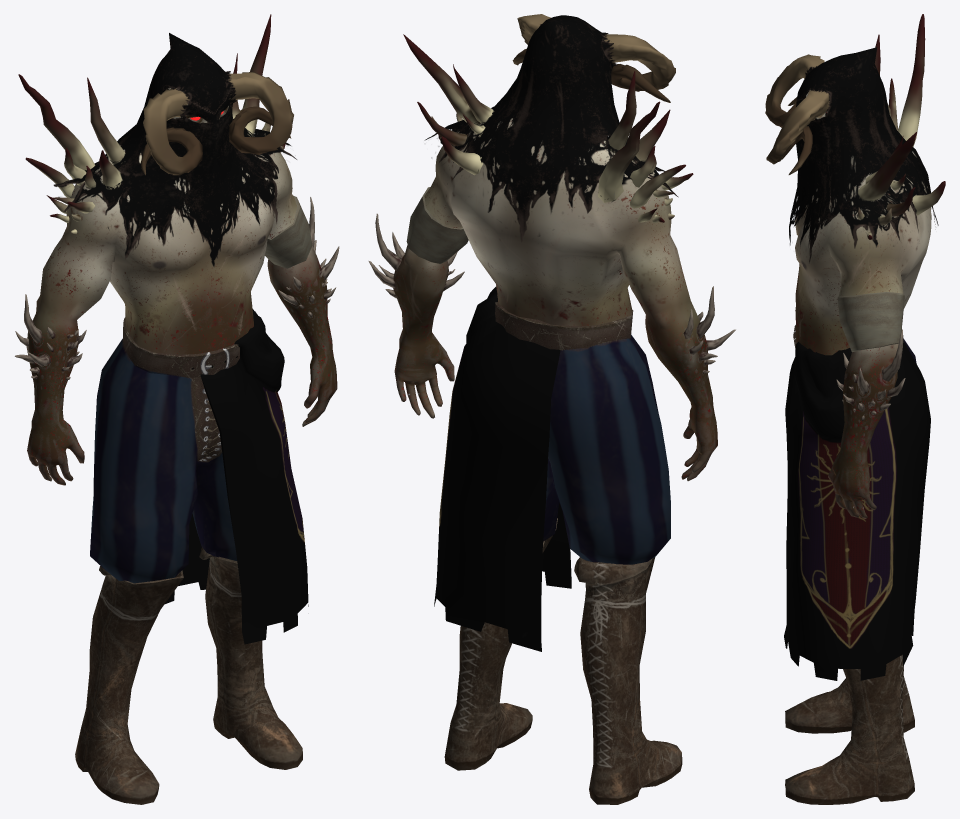
Rendered from banasura.glb.
The picture shows the model from 3 angles, left to right: view 1: azimuth 30°, elevation 25°; view 2: azimuth 150°, elevation 25°; view 3: azimuth 270°, elevation 25°; orthographic projection. The views are drawn at different scales.
Parts seen in each view (by area): view 1: Body_LP, Boot_LP, Skirt_LP, Hood_LP, Horn_LP, Spikes_LP; view 2: Body_LP, Skirt_LP, Boot_LP, Hood_LP, Spikes_LP, Horn_LP; view 3: Skirt_LP, Body_LP, Hood_LP, Boot_LP, Spikes_LP, Horn_LP.
Boxes of the visible parts, x1,y1,x2,y2 form: Body_LP: [15, 88, 339, 583]; Boot_LP: [75, 547, 302, 804]; Skirt_LP: [165, 309, 308, 644]; Hood_LP: [53, 33, 296, 266]; Horn_LP: [140, 72, 293, 175]; Spikes_LP: [18, 14, 285, 235]; Body_LP: [368, 118, 735, 564]; Skirt_LP: [434, 286, 571, 651]; Boot_LP: [444, 518, 682, 804]; Hood_LP: [424, 15, 678, 242]; Spikes_LP: [403, 34, 693, 222]; Horn_LP: [512, 14, 675, 102]; Skirt_LP: [784, 341, 930, 680]; Body_LP: [793, 89, 931, 518]; Hood_LP: [789, 47, 938, 263]; Boot_LP: [785, 655, 914, 804]; Spikes_LP: [857, 14, 945, 239]; Horn_LP: [765, 54, 829, 174].
Size of the model in its own units: 244 by 525 by 121.
2 materials, 2 textured.
